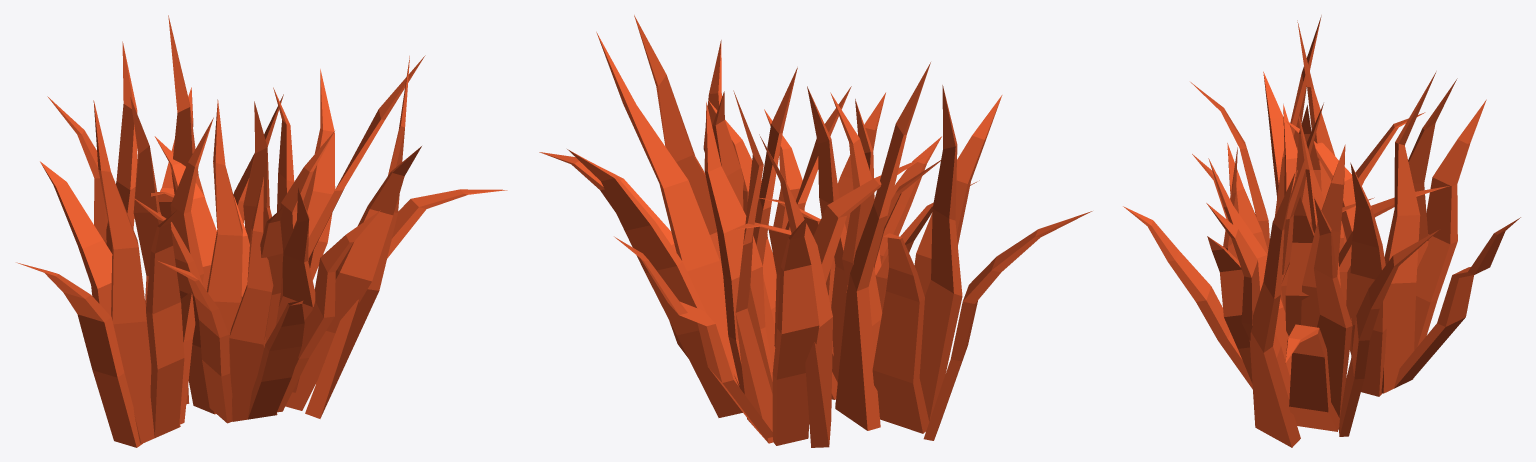
File: grass2.fbx
3 renders of one model, left to right at view 1: azimuth 30°, elevation 25°; view 2: azimuth 150°, elevation 25°; view 3: azimuth 270°, elevation 25°, orthographic. The views are drawn at different scales.
Visible parts, largest first — view 1: grass2; view 2: grass2; view 3: grass2.
Boxes of the visible parts, x1,y1,x2,y2 form: grass2: (16, 15, 507, 447); grass2: (539, 15, 1092, 447); grass2: (1123, 15, 1520, 447).
Bounding box in the file's own units: 304 × 206 × 218.
